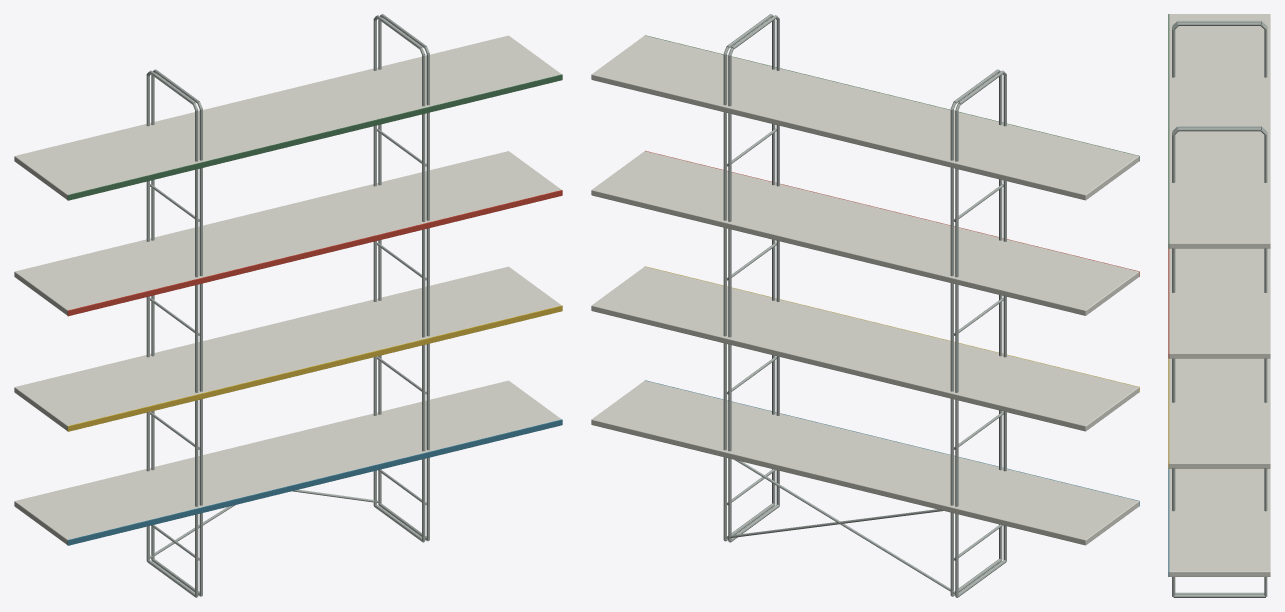
The model's file is byakorre.glb.
The picture shows the model from 3 angles, left to right: view 1: azimuth 30°, elevation 25°; view 2: azimuth 150°, elevation 25°; view 3: azimuth 270°, elevation 25°; orthographic projection. The views are drawn at different scales.
Parts seen in each view (by area): view 1: byakorre; view 2: byakorre; view 3: byakorre.
Part boxes in pixels (box(x1,y1,x2,y2)): byakorre: box(14, 14, 562, 597); byakorre: box(591, 14, 1139, 597); byakorre: box(1168, 14, 1270, 597).
Bounding box in the file's own units: 1.7 × 1.62 × 0.32.
